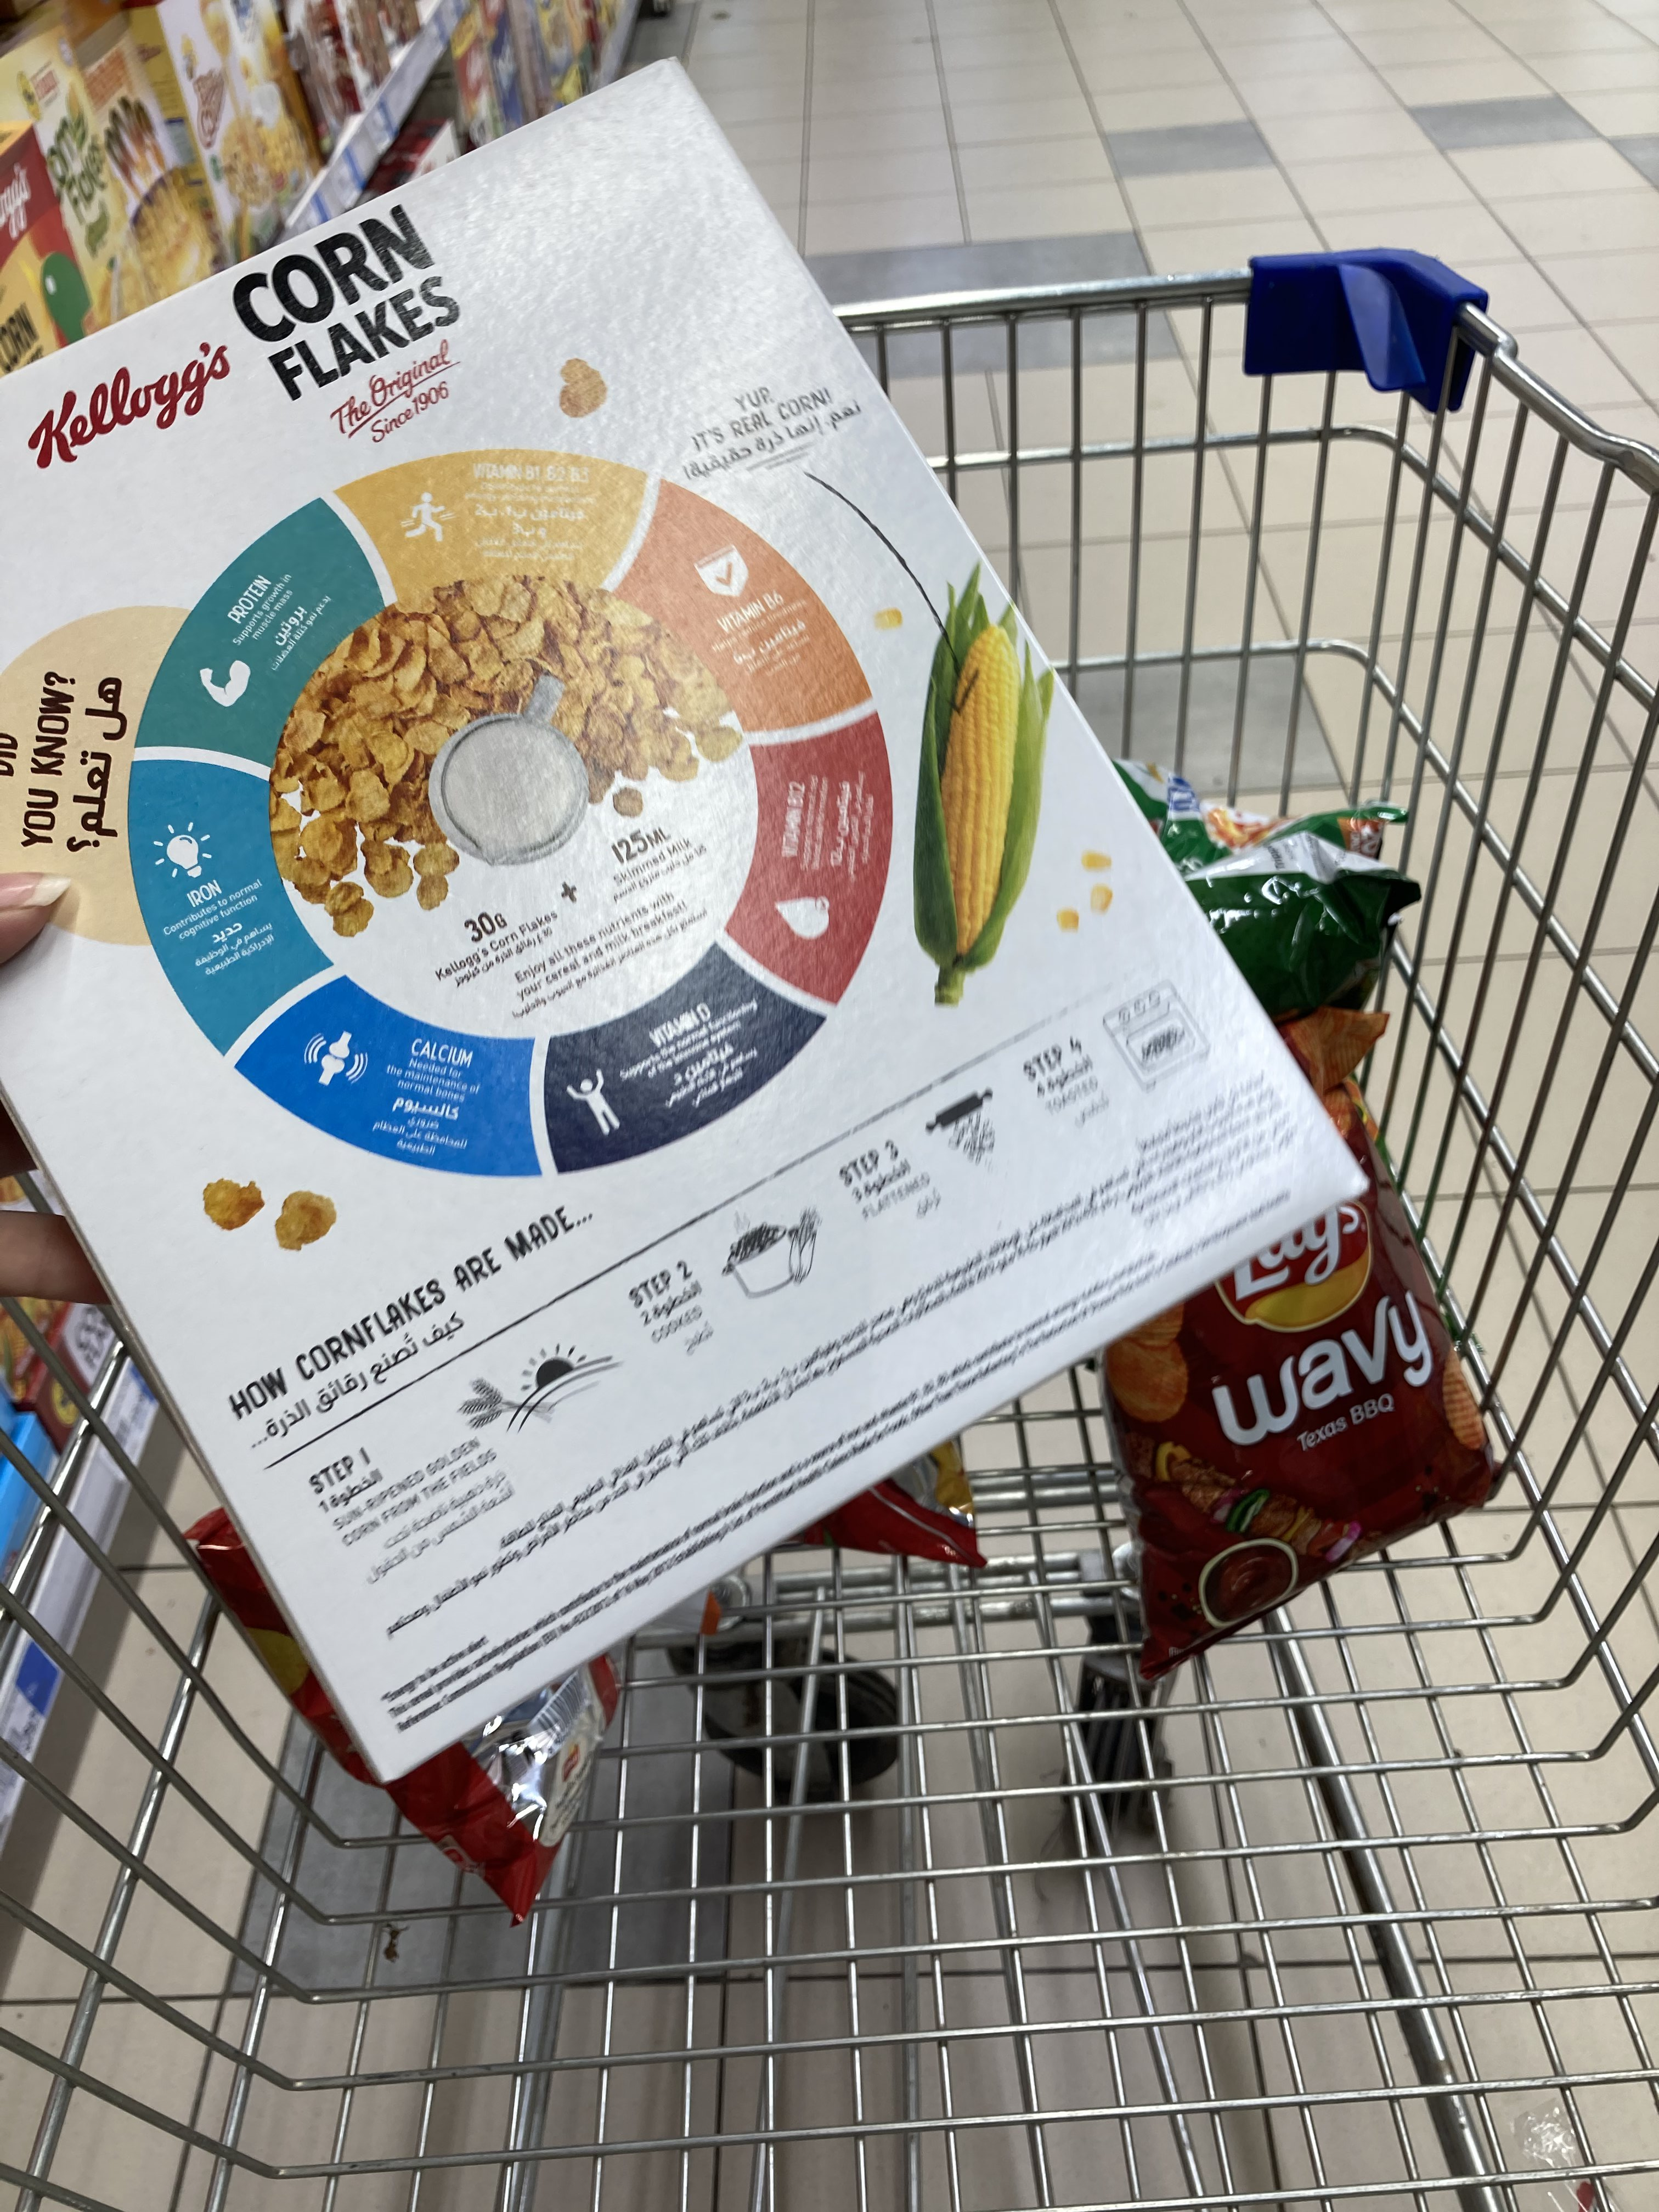Kellogg's Corn Flakes: (2, 51, 1387, 1782)
